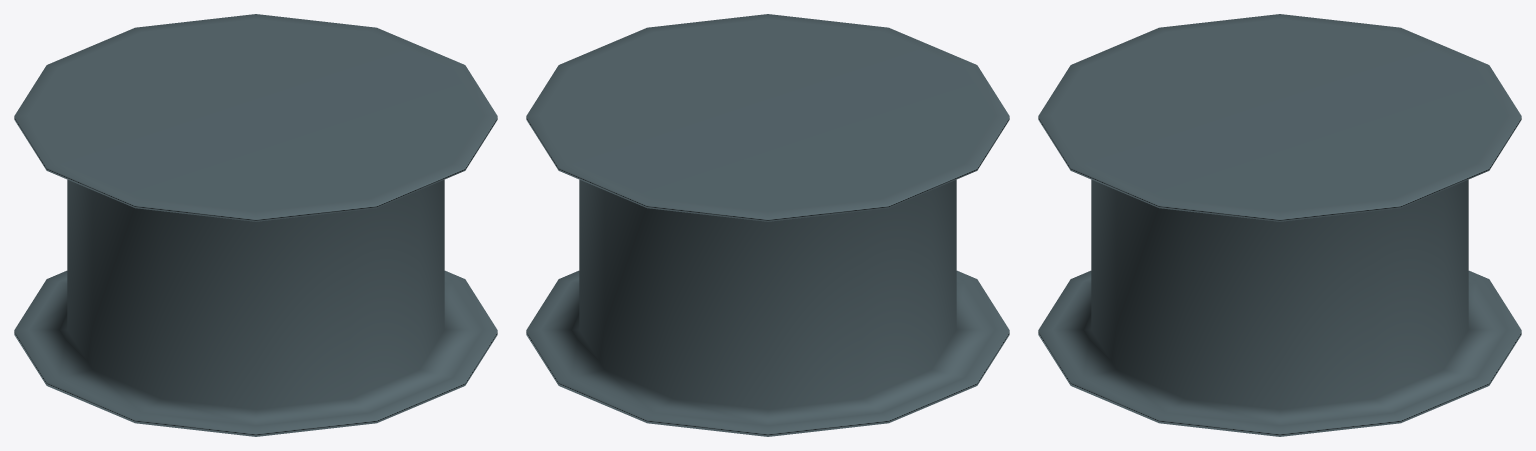
Rendered from spouting-column-unit-authored-atlas.glb.
3 views of the same model, side by side, from view 1: azimuth 30°, elevation 25°; view 2: azimuth 150°, elevation 25°; view 3: azimuth 270°, elevation 25° (orthographic).
Parts seen in each view (by area): view 1: Authored surface; view 2: Authored surface; view 3: Authored surface.
Part boxes in pixels (x1,y1,x2,y2): Authored surface: (14,14,497,436); Authored surface: (526,14,1009,436); Authored surface: (1038,14,1521,436).
Bounding box in the file's own units: 2 × 1 × 2.
1 material, 1 textured.
